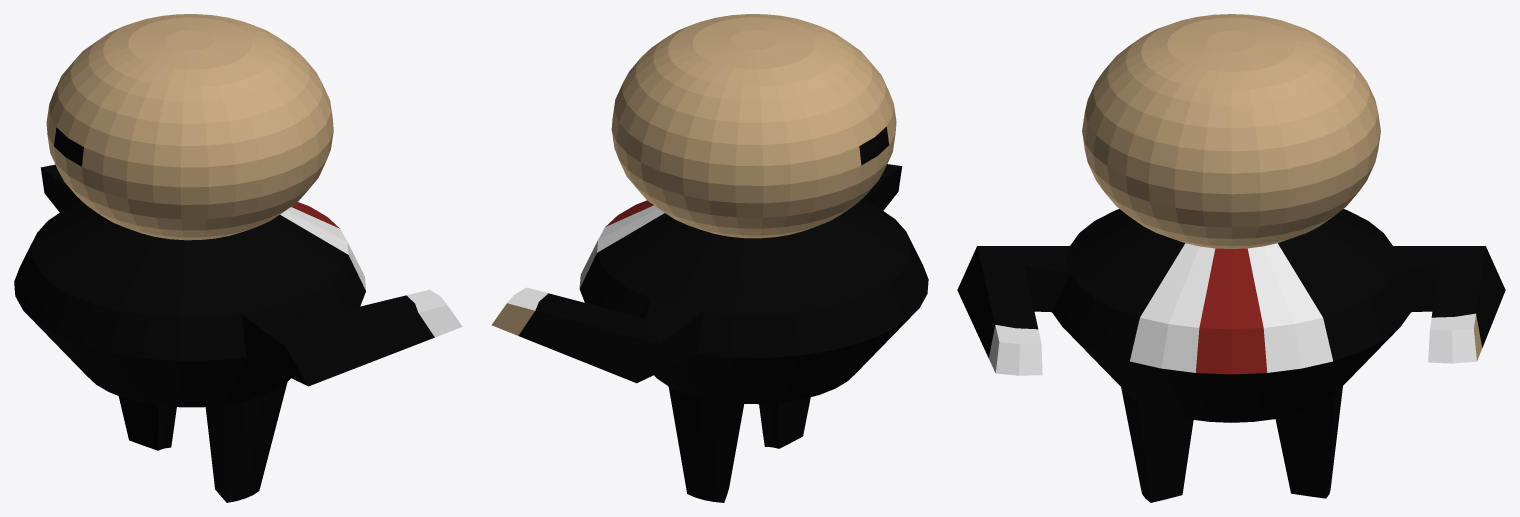
File: hitman.fbx
3 renders of one model, left to right at view 1: azimuth 30°, elevation 25°; view 2: azimuth 150°, elevation 25°; view 3: azimuth 270°, elevation 25°, orthographic. The views are drawn at different scales.
Parts seen in each view (by area): view 1: Sphere; view 2: Sphere; view 3: Sphere.
Boxes of the visible parts, x1,y1,x2,y2 form: Sphere: (14,14,462,502); Sphere: (491,14,928,502); Sphere: (957,14,1505,502).
Bounding box in the file's own units: 324 × 422 × 468.
